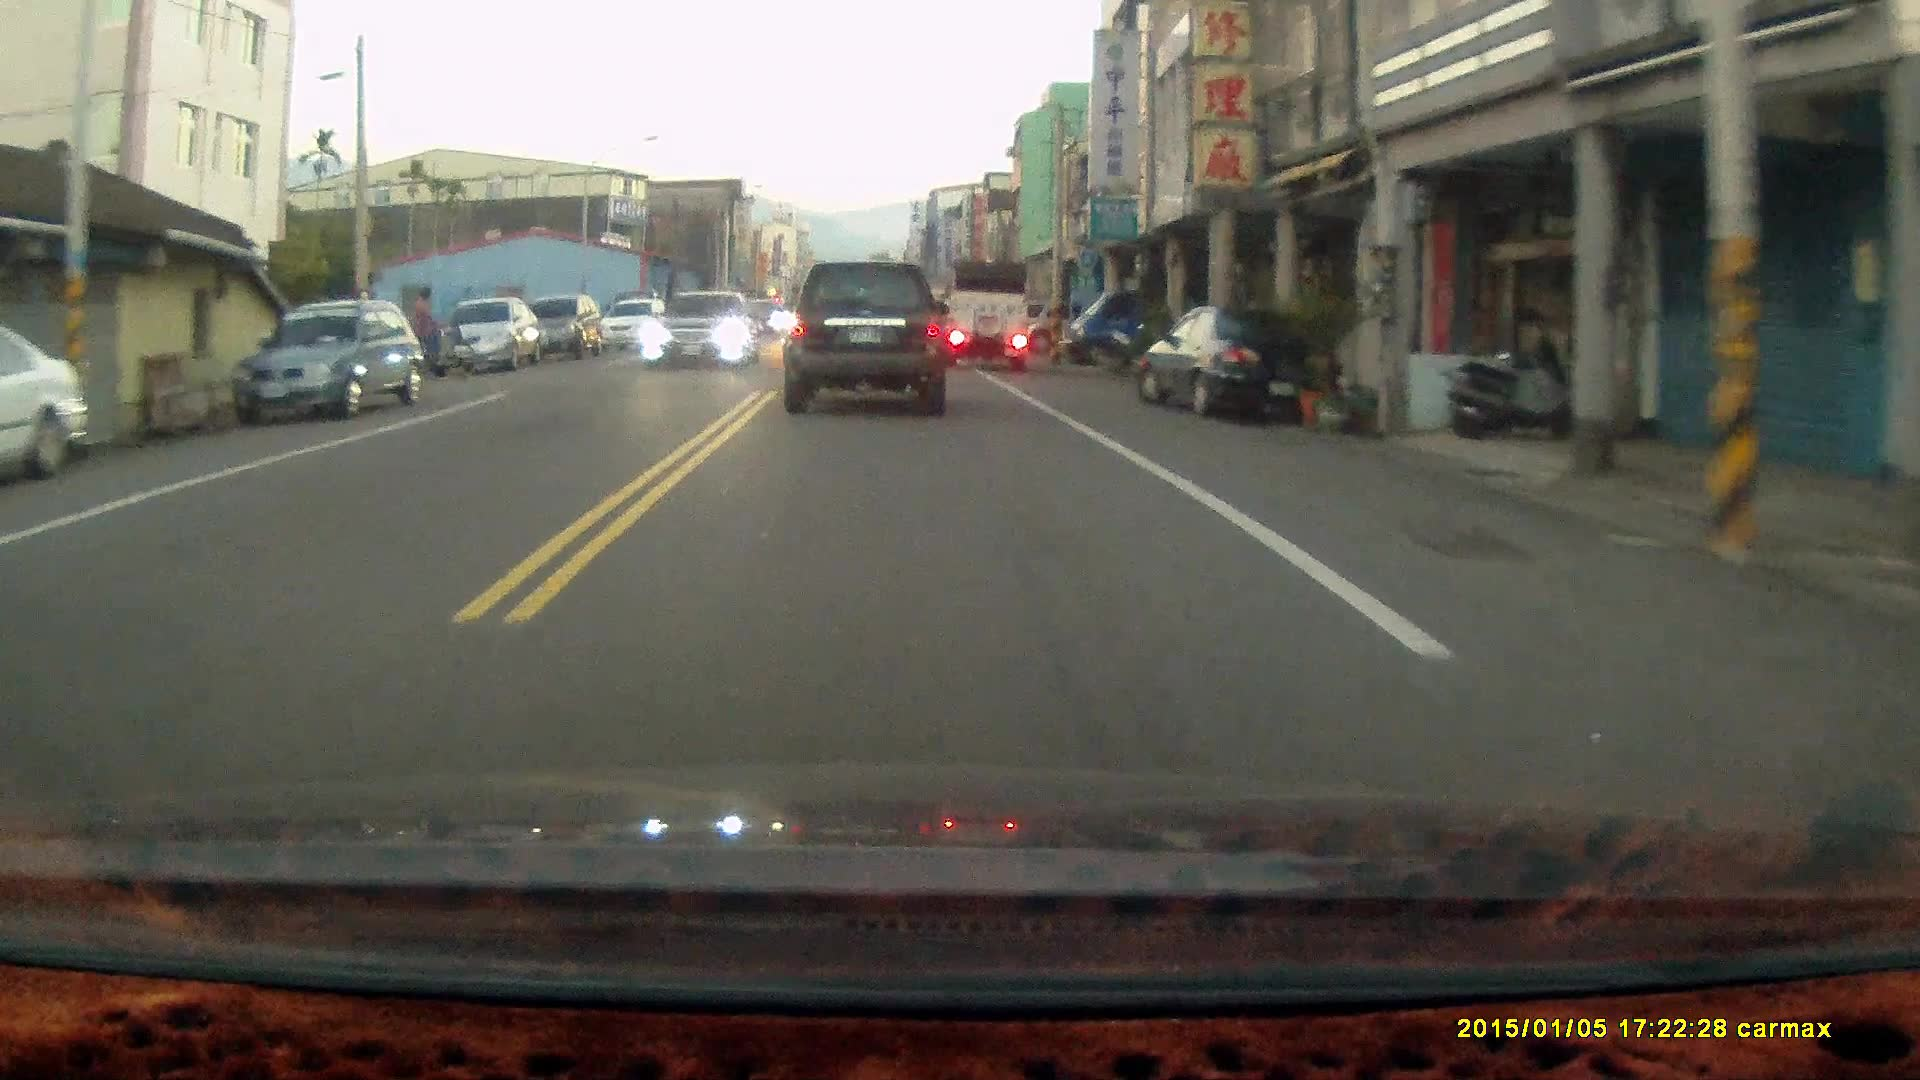rider: (380, 290, 478, 384)
vehicle: (785, 265, 953, 422), (235, 300, 429, 422), (1136, 306, 1334, 420), (1, 320, 93, 486), (1061, 279, 1204, 375), (635, 292, 759, 376), (945, 259, 1031, 372), (434, 297, 539, 374), (516, 295, 603, 362), (600, 299, 676, 357)
